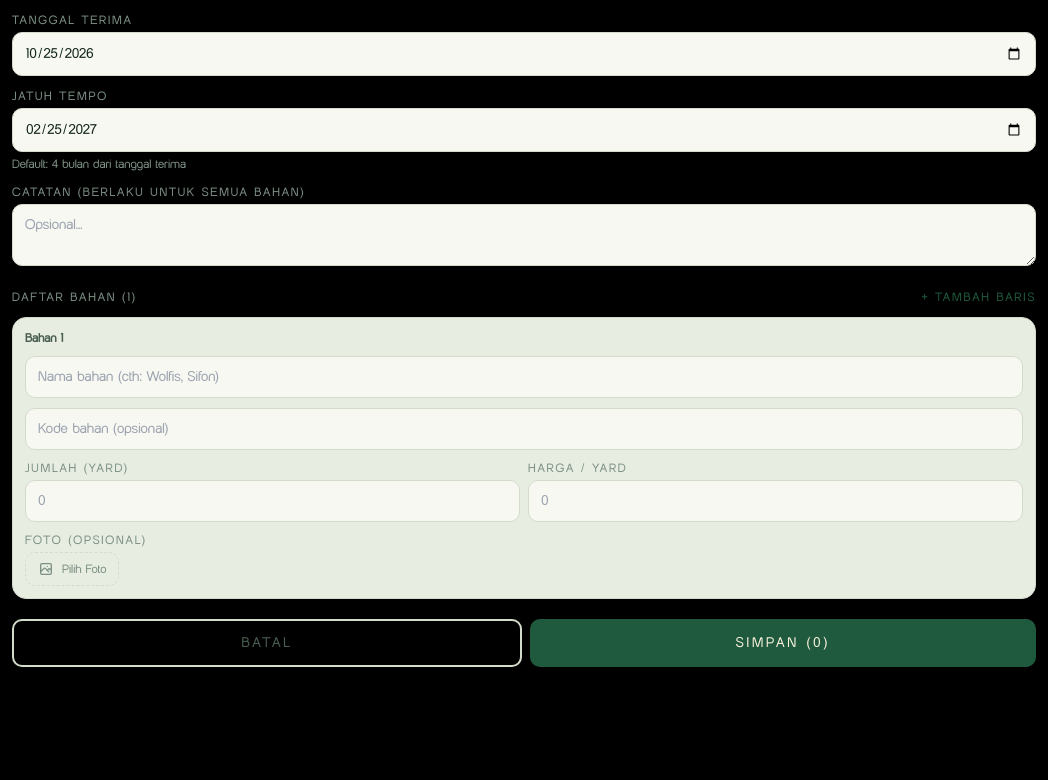
it: PembelianBulkForm › updates jatuh_tempo when tanggal changes
Type "2024-01-01" into the 1st date field.
click(524, 54); type("2024-01-01")  # box [12,32,1036,76]
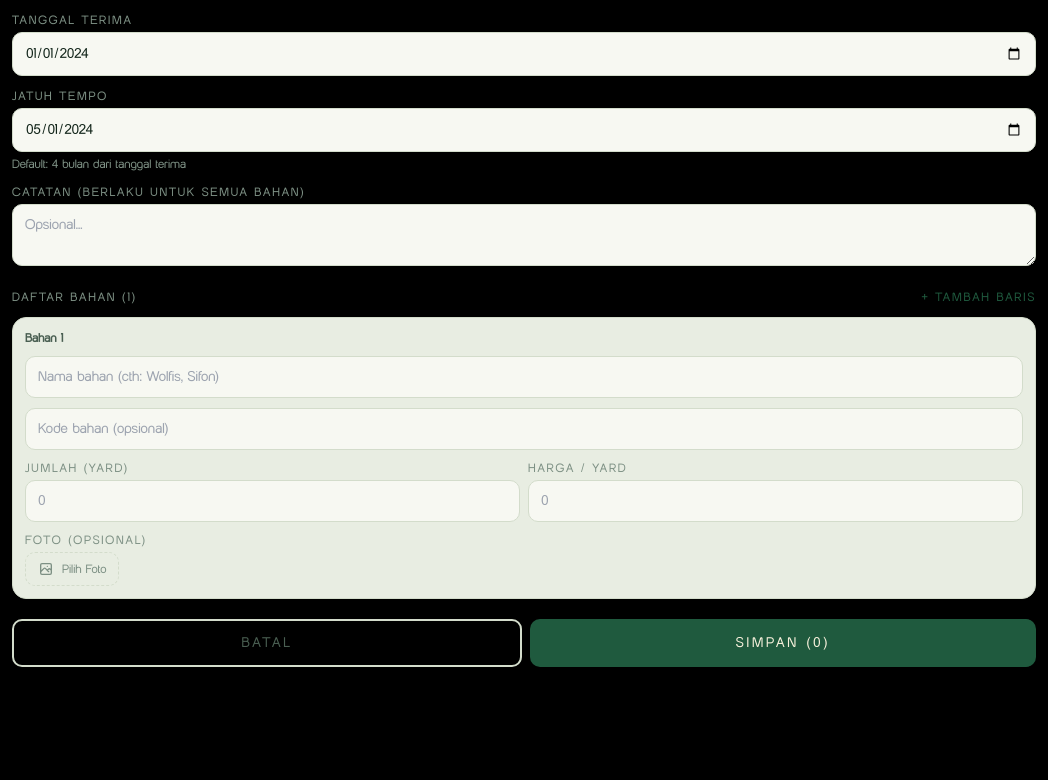
expect the date field showing "2024-05-01" below "Jatuh Tempo" is shown: met, box [12,108,1036,152]
